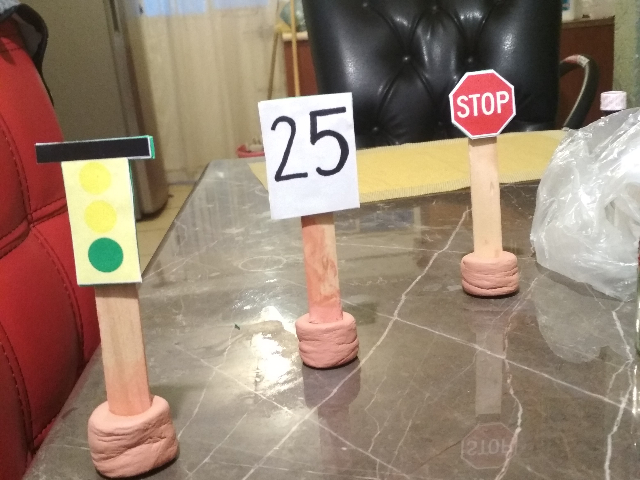Green: (25, 127, 163, 292)
Limit 25: (250, 85, 369, 229)
Stop: (443, 65, 519, 145)
